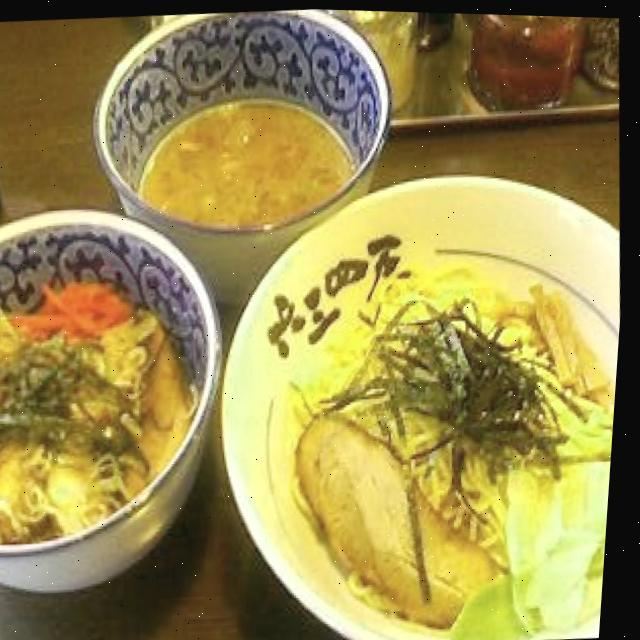面条主食: (59, 39, 638, 640)
